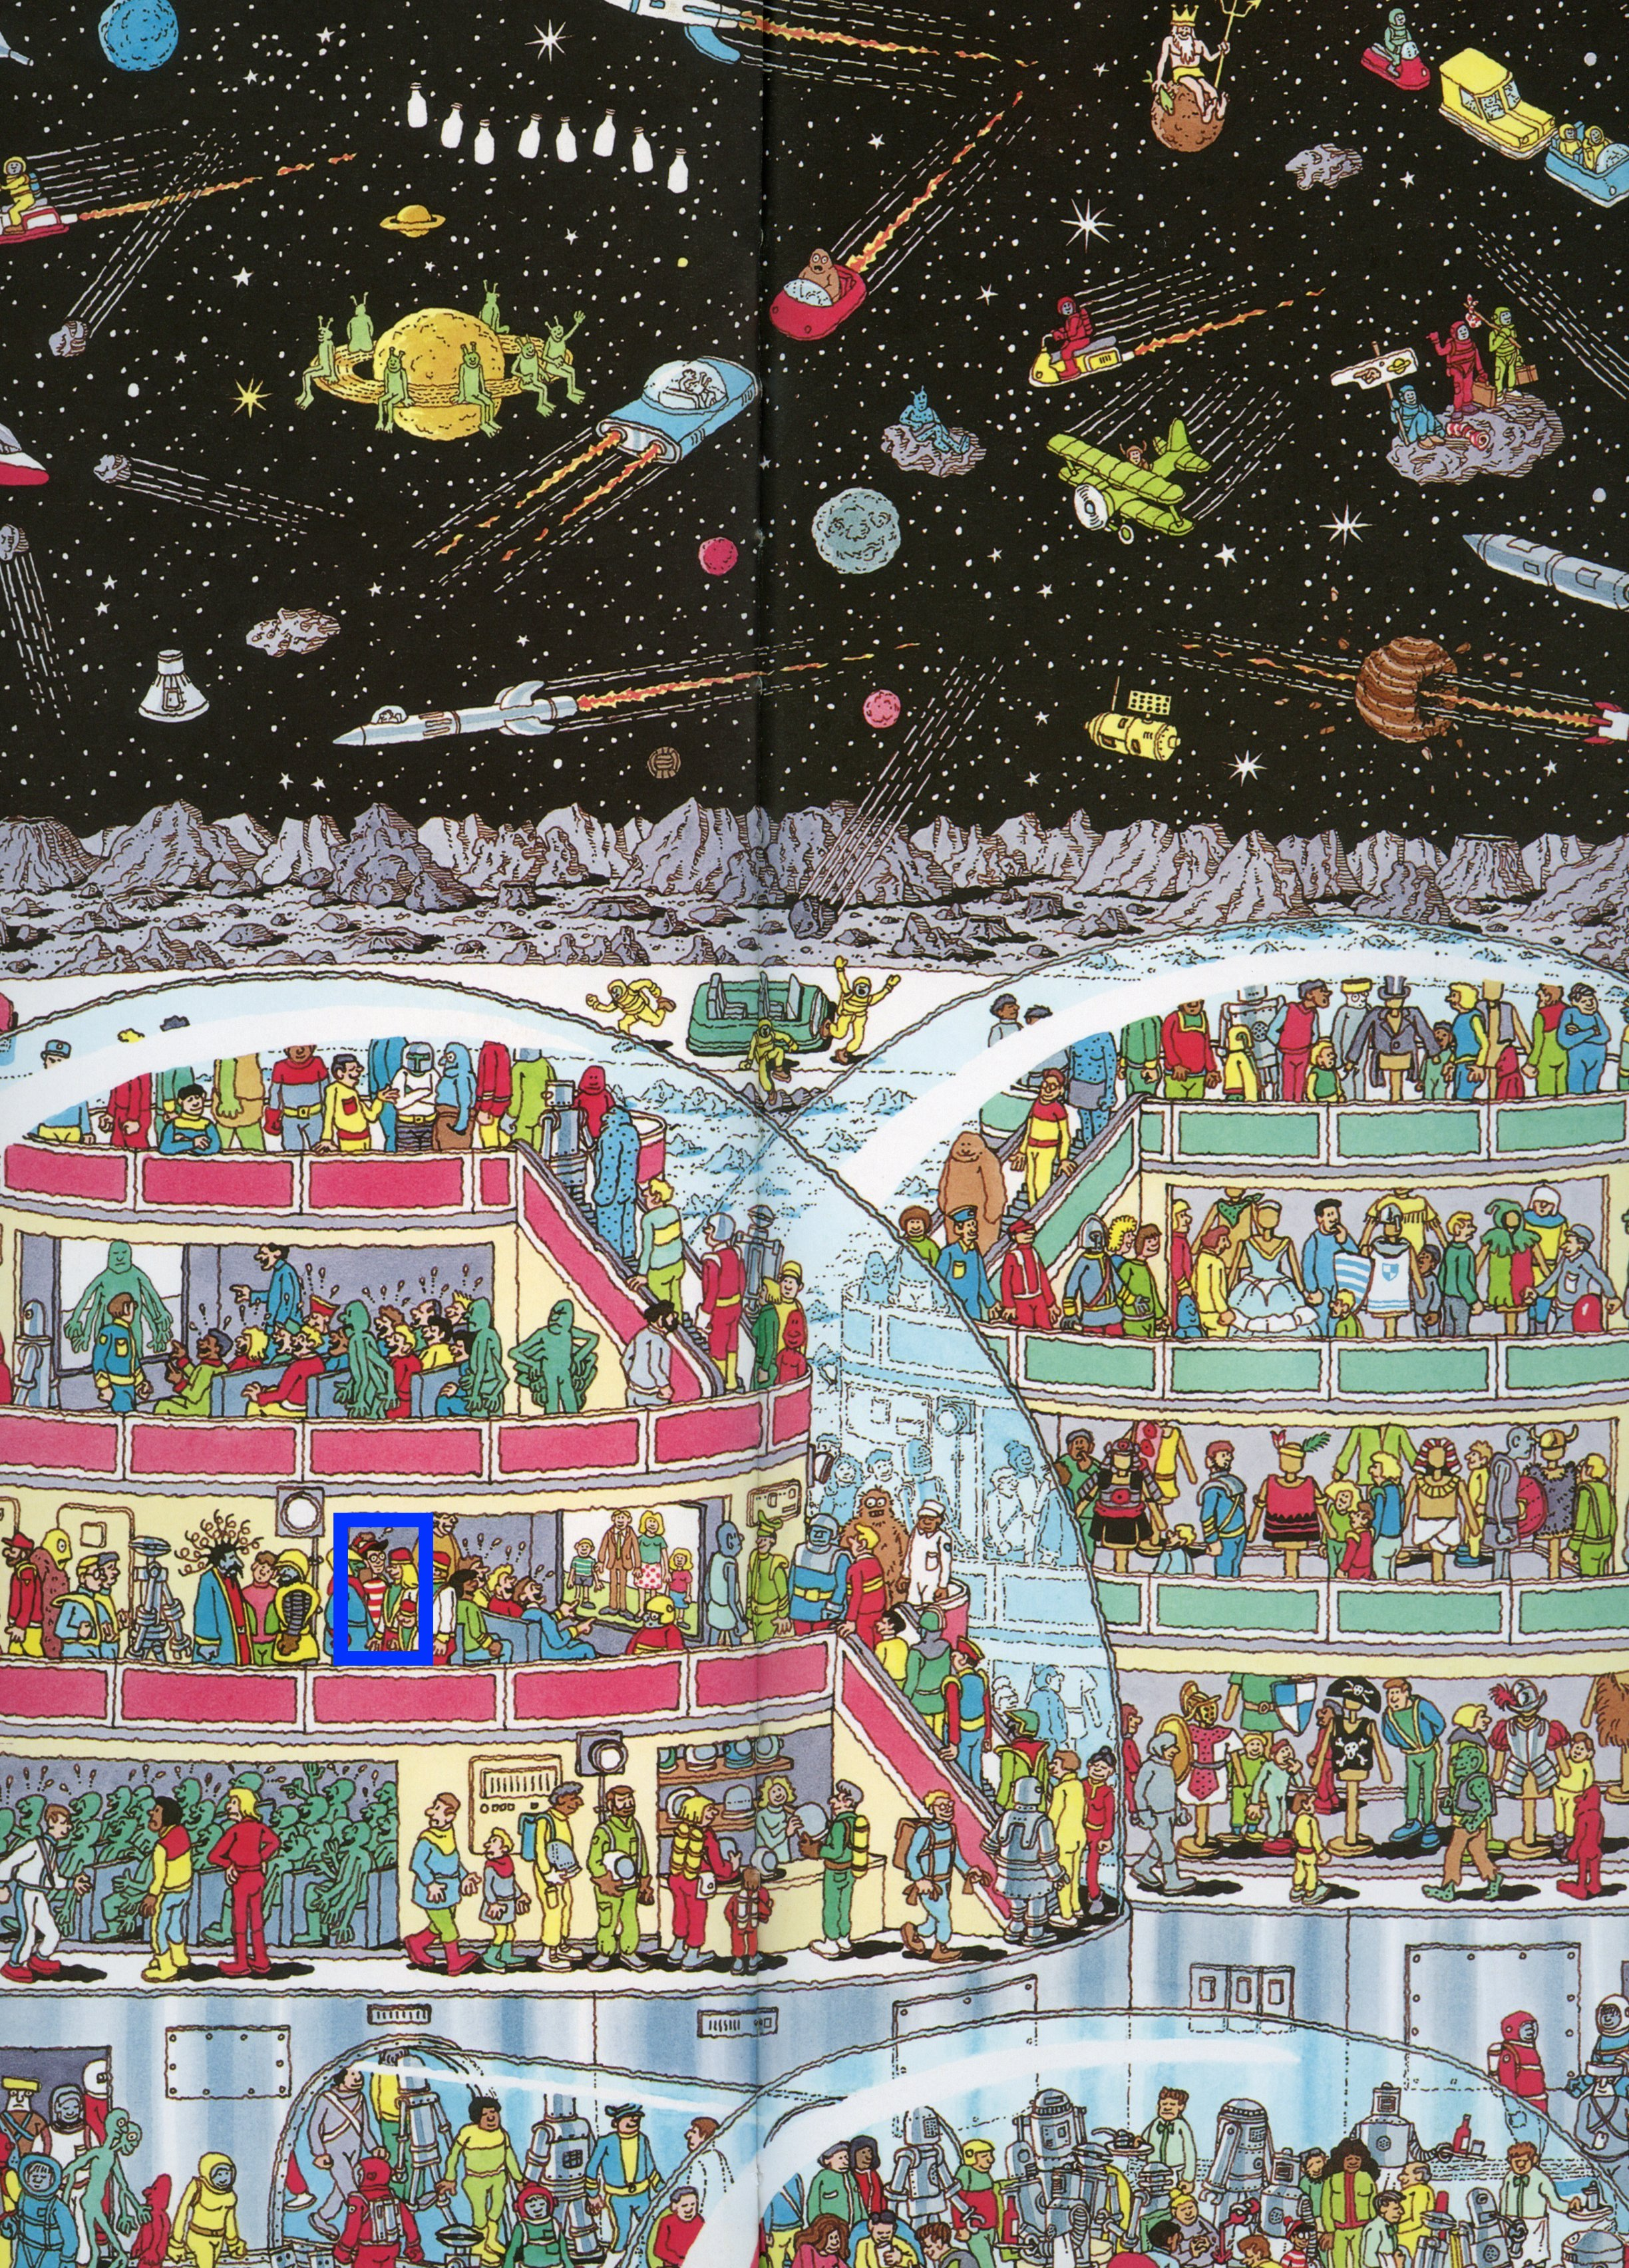waldo: (343, 1514, 461, 1678)
